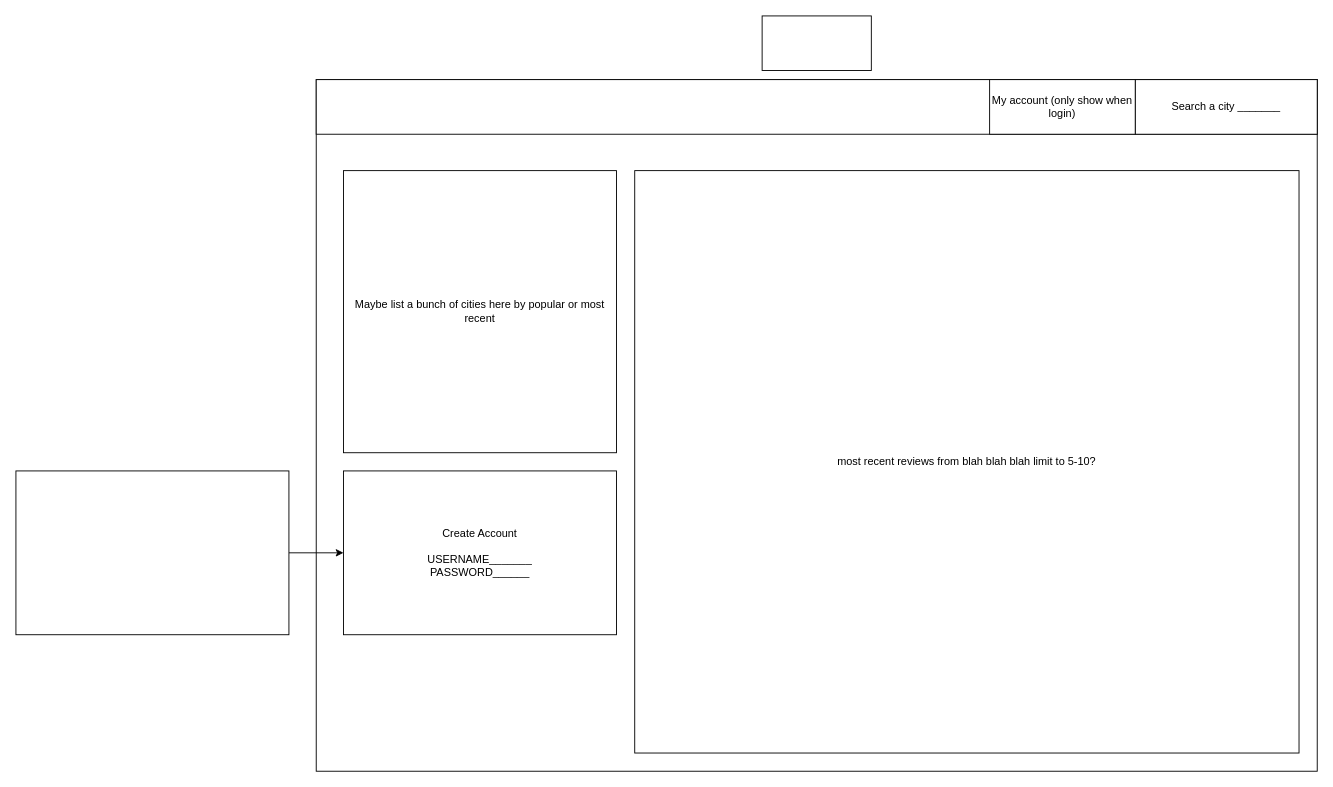
Some shapes in this 1333 by 787 pixel diagram are drawn without their labels. The centre of each missing label's shape, as x and y in pixels:
Home Page: point 816,43
Replace with add a review if logged in: point 152,552
